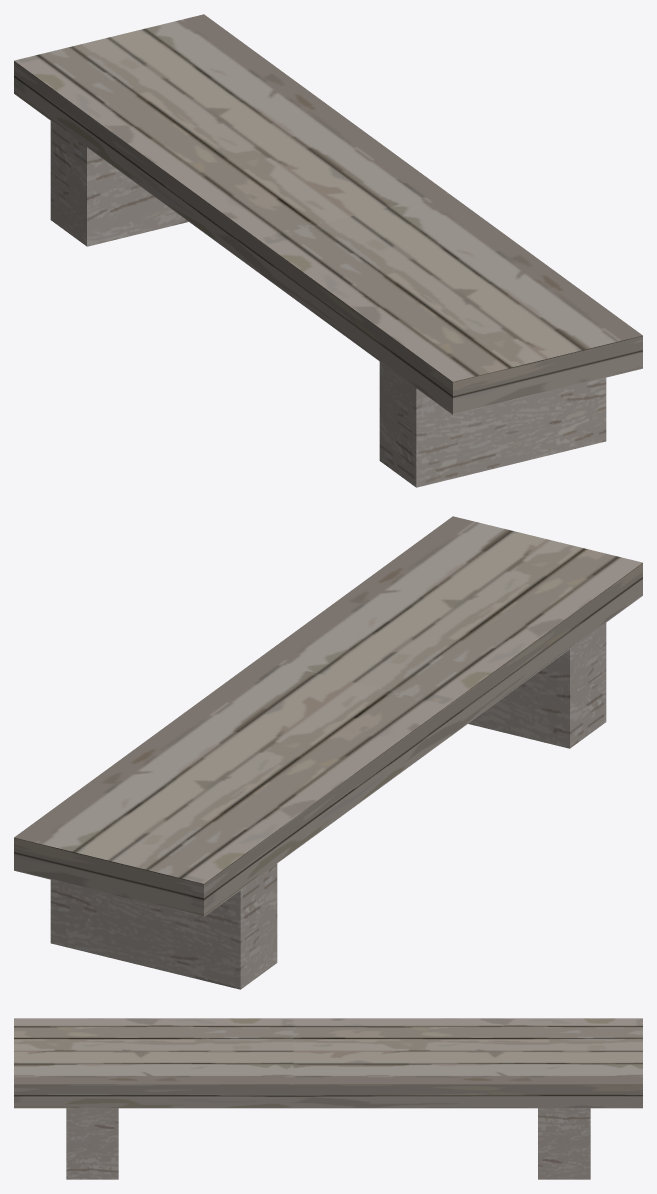
File: bench.fbx
3 views of the same model, one above another, from view 1: azimuth 30°, elevation 25°; view 2: azimuth 150°, elevation 25°; view 3: azimuth 270°, elevation 25° (orthographic). The views are drawn at different scales.
Parts seen in each view (by area): view 1: bench; view 2: bench; view 3: bench.
Boxes of the visible parts, box(x1,y1,x2,y2) form: bench: box(14, 14, 642, 487); bench: box(14, 516, 642, 989); bench: box(14, 1018, 642, 1179).
Size of the model in its own units: 300 by 200 by 1200.
